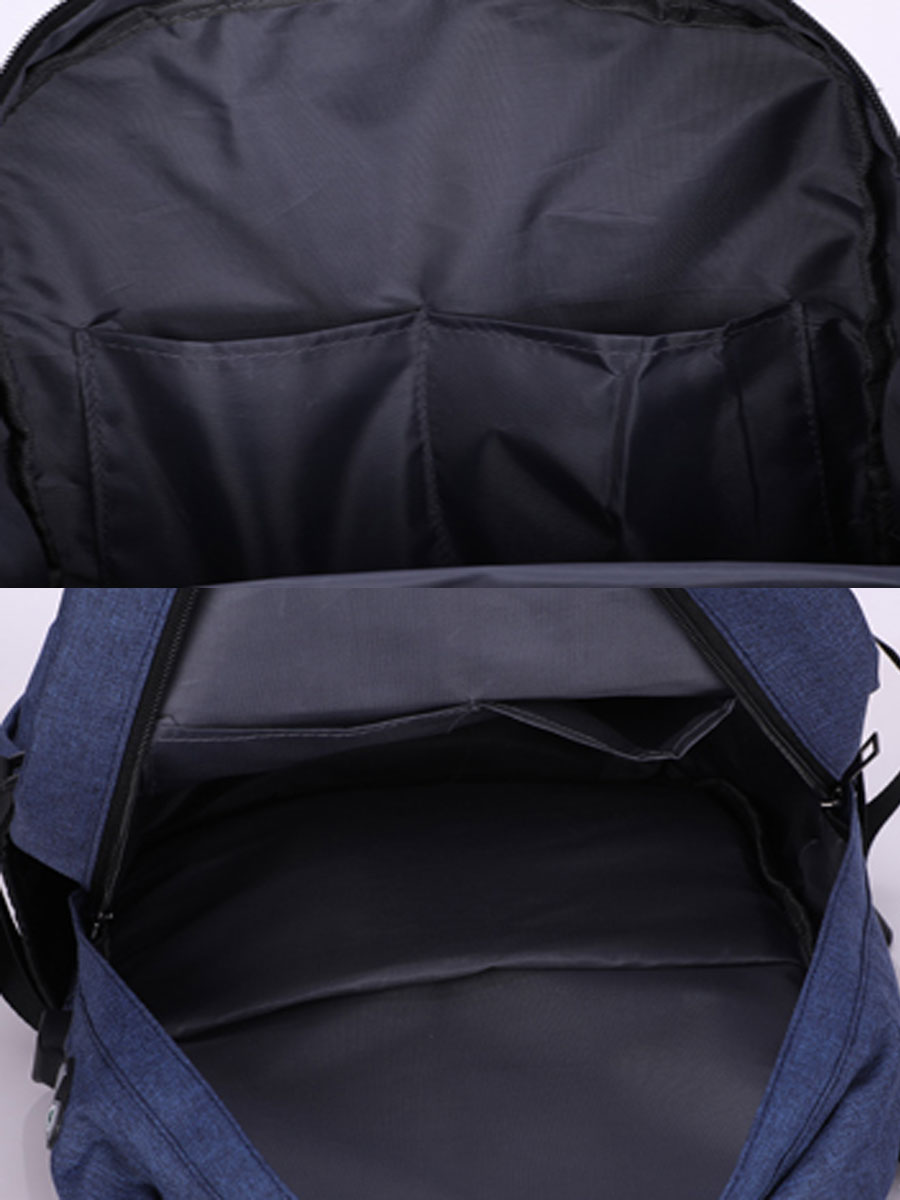Men's Backpacks: (1, 588, 900, 1200)
